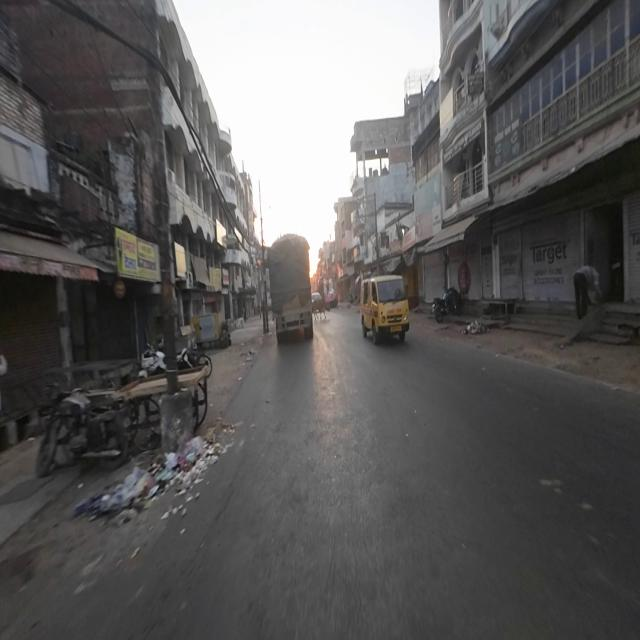Garbage: (87, 436, 217, 506)
